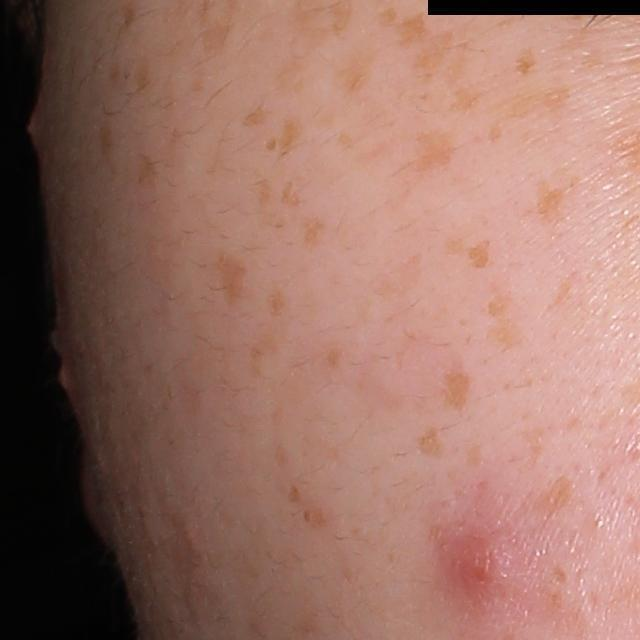melasma: (211, 251, 251, 310), (122, 147, 164, 200), (198, 13, 242, 63), (533, 474, 578, 521), (386, 11, 436, 51), (411, 130, 457, 172), (269, 109, 307, 155), (490, 296, 523, 347), (415, 426, 457, 466), (532, 181, 568, 225), (462, 240, 500, 280), (250, 166, 277, 212), (441, 368, 470, 410), (262, 283, 292, 323), (278, 177, 308, 213), (299, 214, 327, 252), (505, 47, 536, 81), (130, 66, 159, 95), (323, 342, 345, 373)
